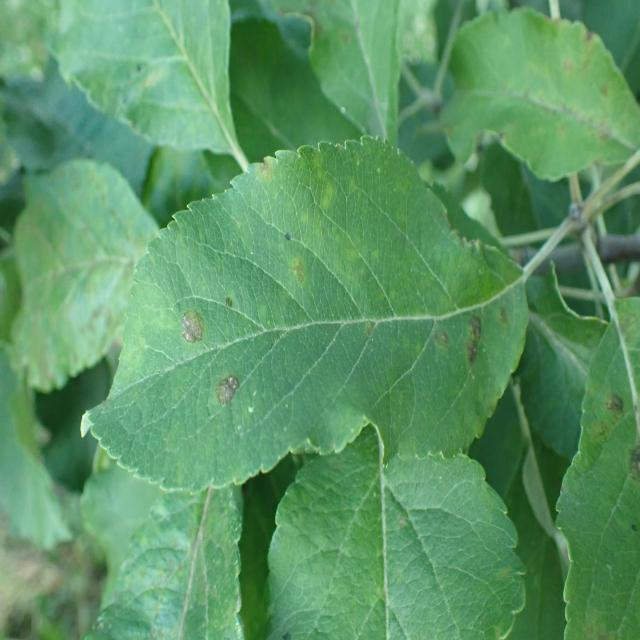scab: (448, 0, 633, 175), (5, 166, 150, 383), (240, 0, 411, 149), (587, 348, 640, 555), (469, 282, 508, 411), (253, 236, 327, 297), (410, 285, 460, 371), (171, 242, 203, 361), (247, 134, 291, 203), (209, 364, 255, 426)
